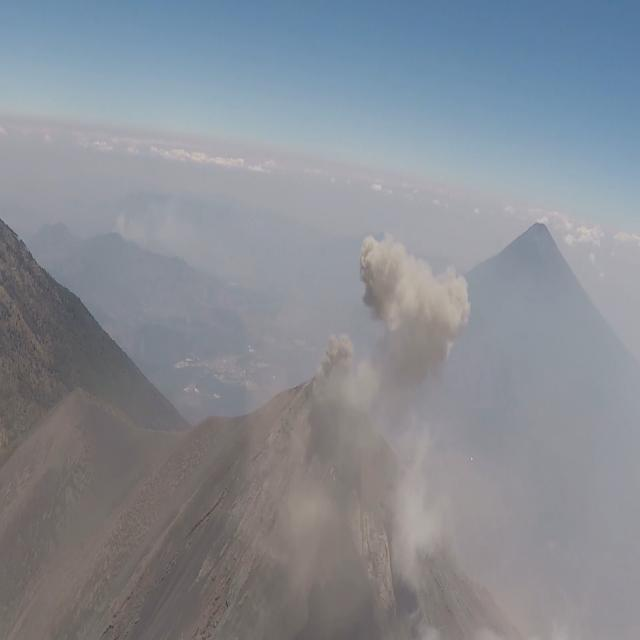Plume: (356, 227, 474, 397), (314, 331, 354, 386)
Summit: (204, 366, 459, 586)
